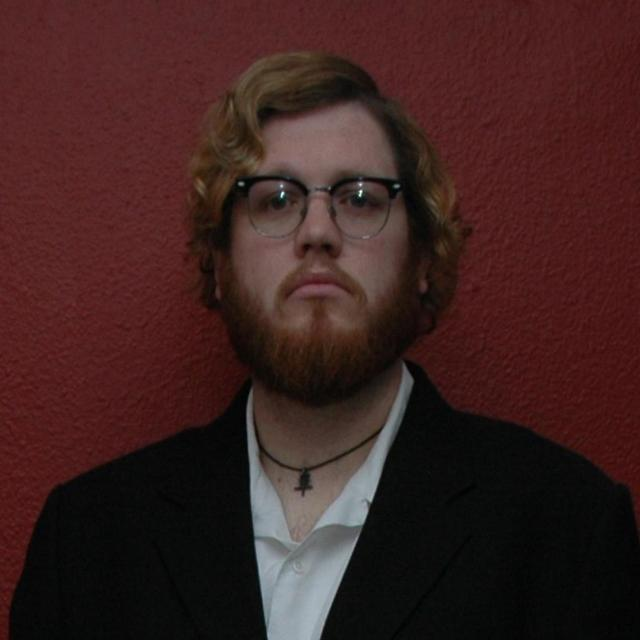no-glass: (257, 183, 380, 220)
